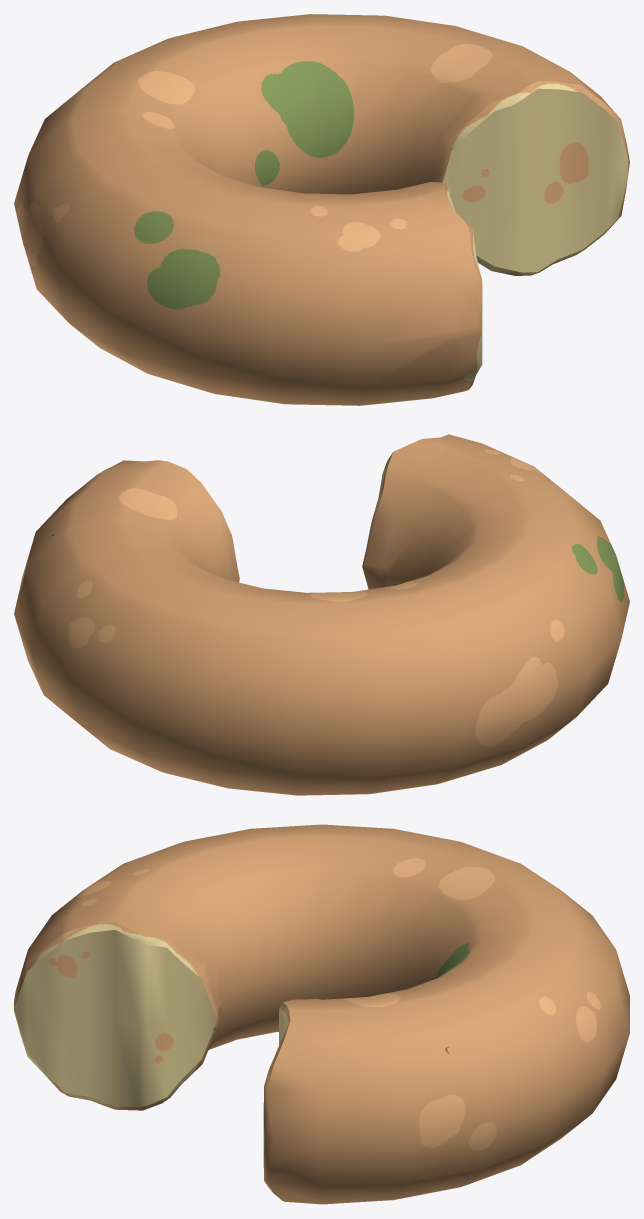
File: RS_StaleDonut.fbx
3 renders of one model, top to bottom at view 1: azimuth 30°, elevation 25°; view 2: azimuth 150°, elevation 25°; view 3: azimuth 270°, elevation 25°, orthographic. The views are drawn at different scales.
Visible parts, largest first — view 1: Torus; view 2: Torus; view 3: Torus.
Boxes of the visible parts, x1,y1,x2,y2 form: Torus: (14, 14, 629, 405); Torus: (14, 434, 629, 795); Torus: (14, 824, 629, 1204).
Bounding box in the file's own units: 30 × 10 × 29.71.
1 material, 1 textured.
